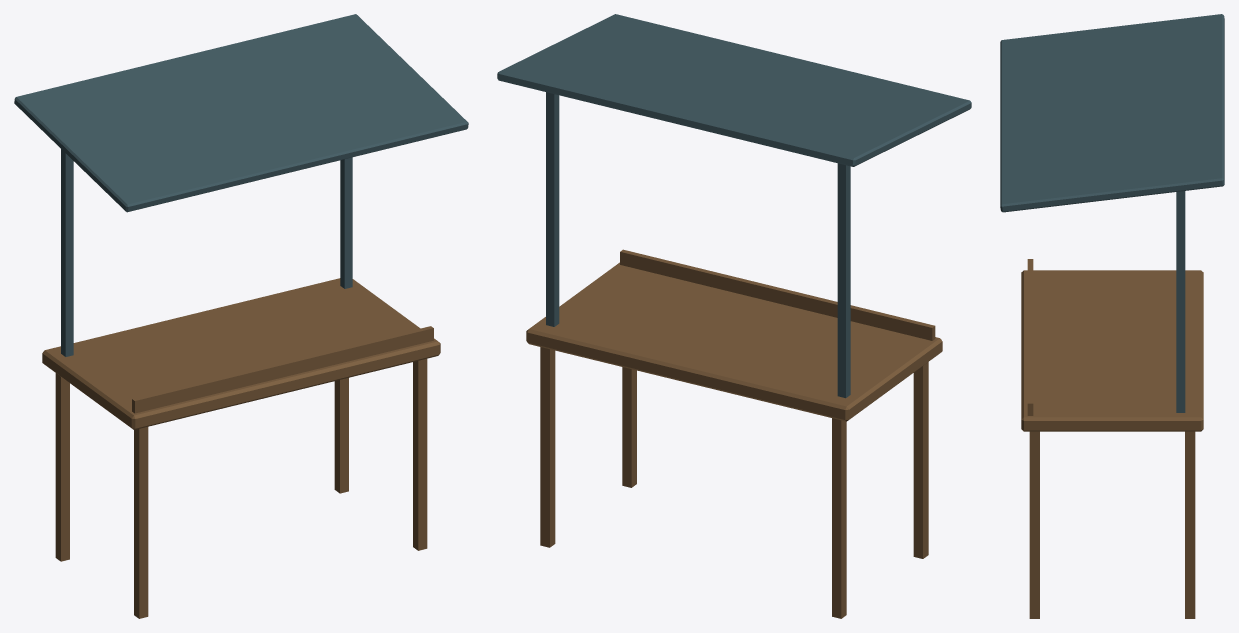
File: vendor_stall.glb
3 renders of one model, left to right at view 1: azimuth 30°, elevation 25°; view 2: azimuth 150°, elevation 25°; view 3: azimuth 270°, elevation 25°, orthographic. The views are drawn at different scales.
Visible parts, largest first — view 1: vendor_stall__VVK_painted_steel, vendor_stall__VVK_weathered_wood; view 2: vendor_stall__VVK_weathered_wood, vendor_stall__VVK_painted_steel; view 3: vendor_stall__VVK_painted_steel, vendor_stall__VVK_weathered_wood.
Part boxes in pixels (bbox=[...]): vendor_stall__VVK_painted_steel: bbox=[14, 14, 468, 356]; vendor_stall__VVK_weathered_wood: bbox=[42, 278, 440, 618]; vendor_stall__VVK_weathered_wood: bbox=[526, 249, 942, 618]; vendor_stall__VVK_painted_steel: bbox=[497, 14, 971, 398]; vendor_stall__VVK_painted_steel: bbox=[1000, 14, 1224, 412]; vendor_stall__VVK_weathered_wood: bbox=[1021, 259, 1203, 618].
Bounding box in the file's own units: 1.72 × 2.19 × 0.9848.
